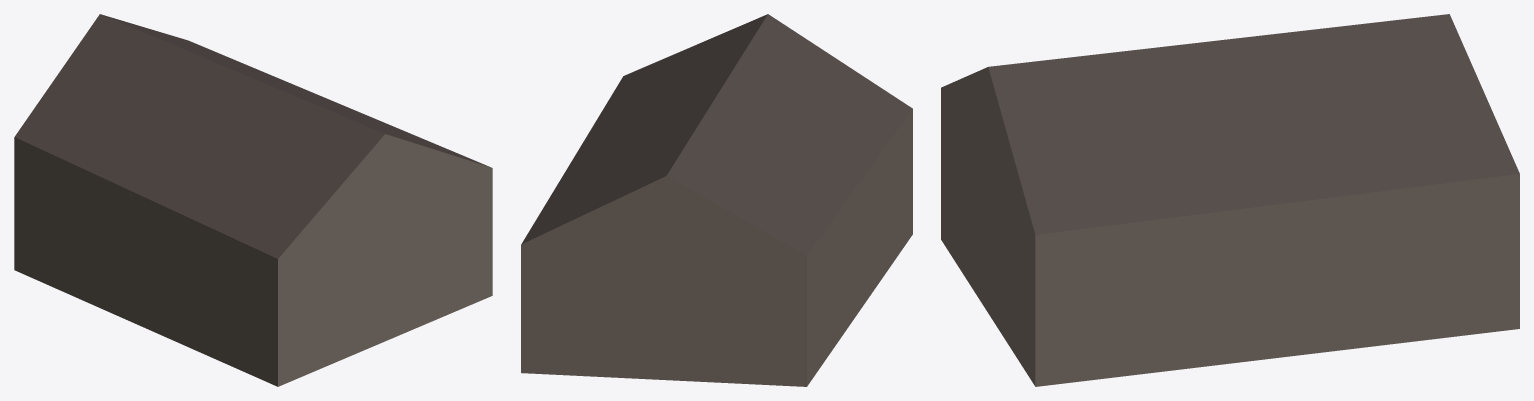
3 views of the same model, side by side, from view 1: azimuth 30°, elevation 25°; view 2: azimuth 150°, elevation 25°; view 3: azimuth 270°, elevation 25° (orthographic). The views are drawn at different scales.
Parts seen in each view (by area): view 1: HP-w1197025786; view 2: HP-w1197025786; view 3: HP-w1197025786.
Part boxes in pixels (x1,y1,x2,y2): HP-w1197025786: [14, 14, 492, 386]; HP-w1197025786: [521, 14, 912, 386]; HP-w1197025786: [941, 14, 1519, 386].
Bounding box in the file's own units: 16.31 × 9.73 × 20.72.
